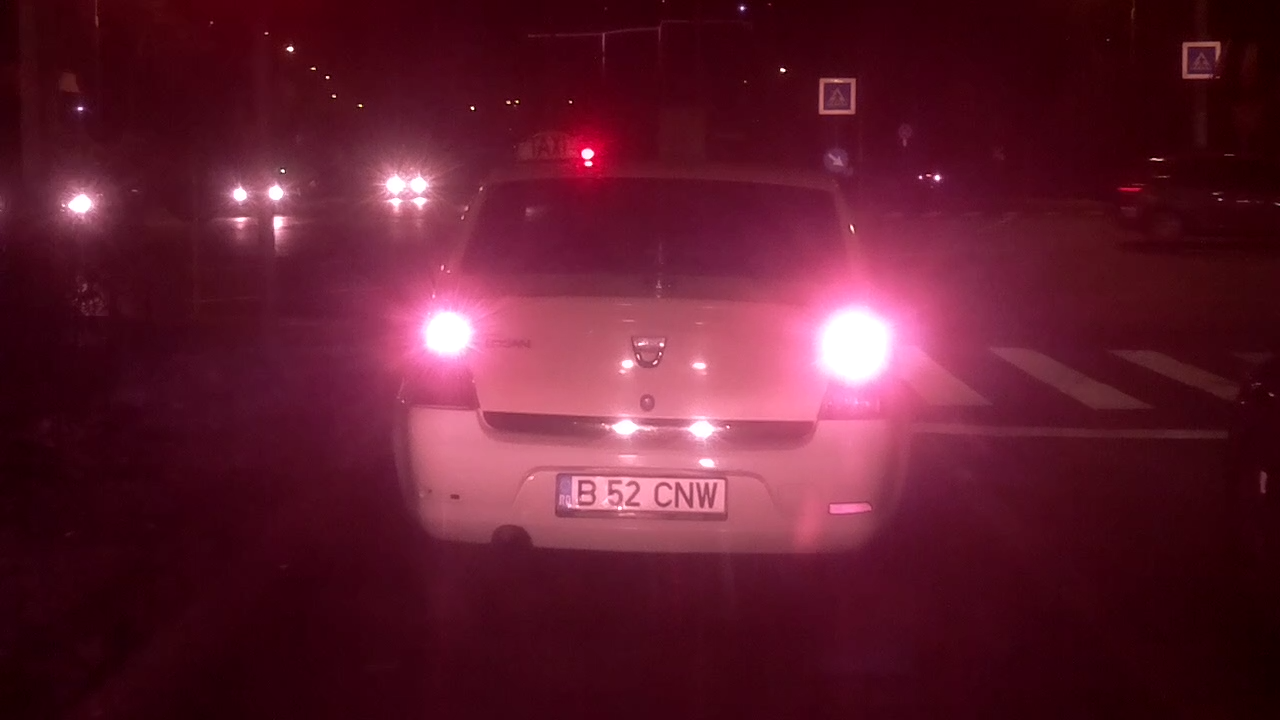license-plate: (550, 467, 735, 525)
